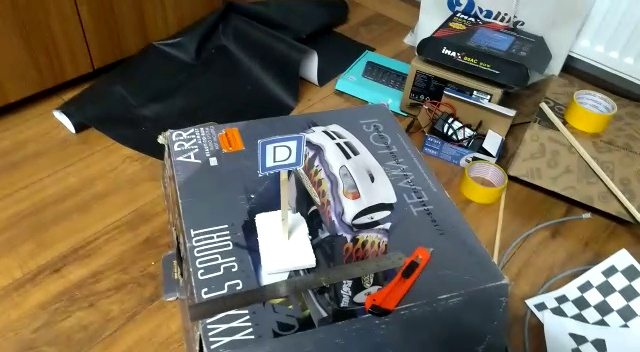durak: (256, 136, 307, 174)
